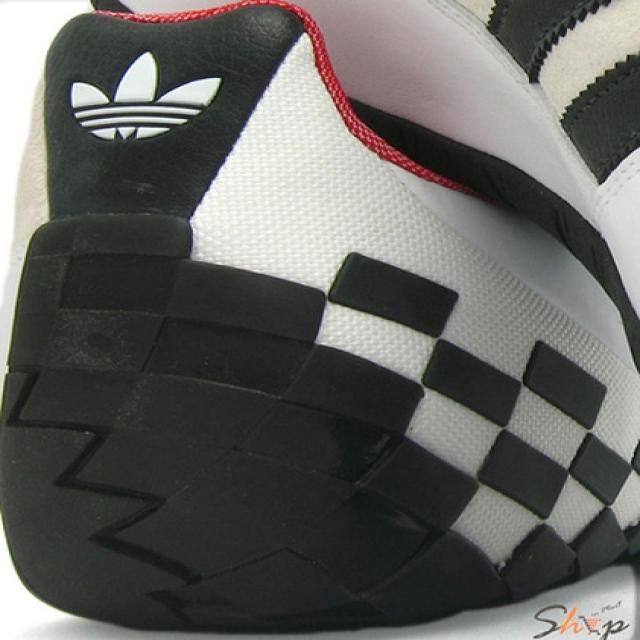adidas: (57, 47, 229, 147)
